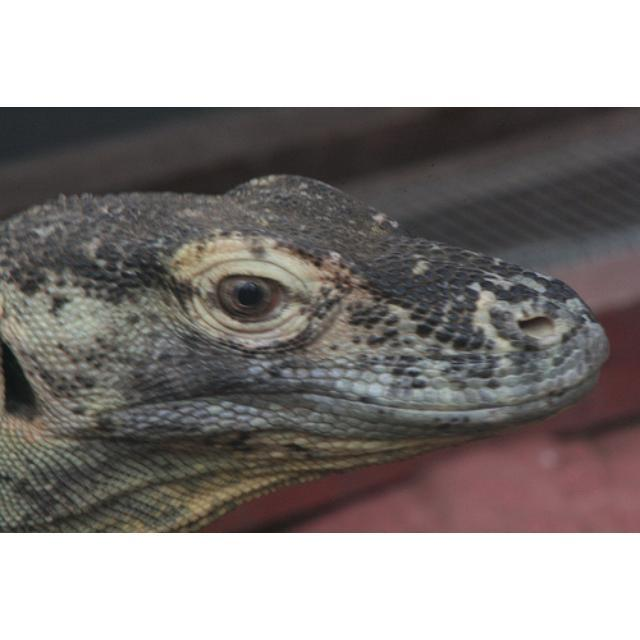KomodoDragon: (1, 172, 610, 531)
